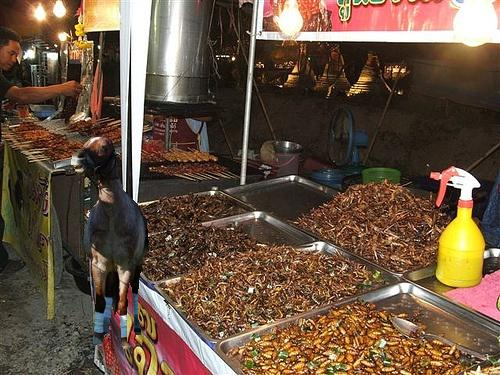tampered: (72, 138, 149, 349)
